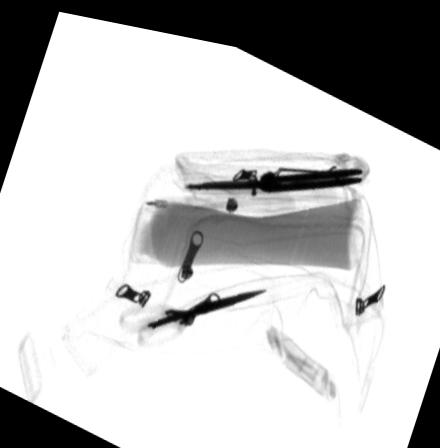Knife: (185, 152, 363, 183)
Scissors: (118, 278, 268, 341)
